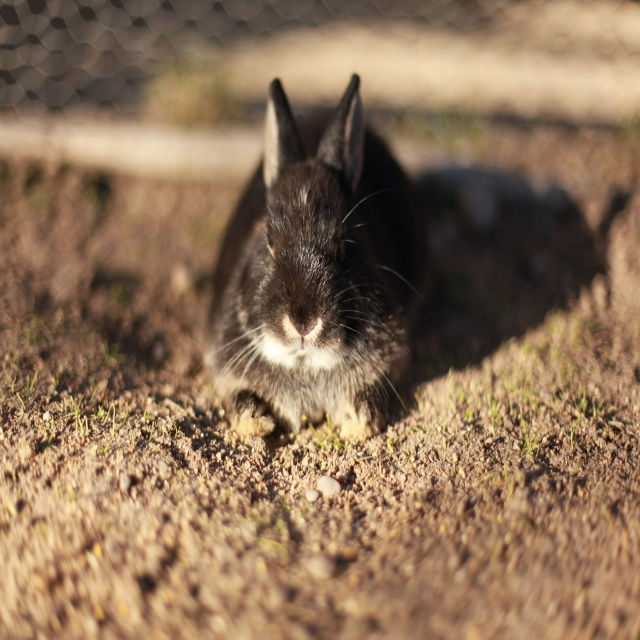Rabbit: (205, 71, 439, 447)
